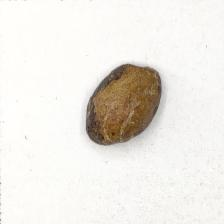NG: (84, 62, 130, 149)
